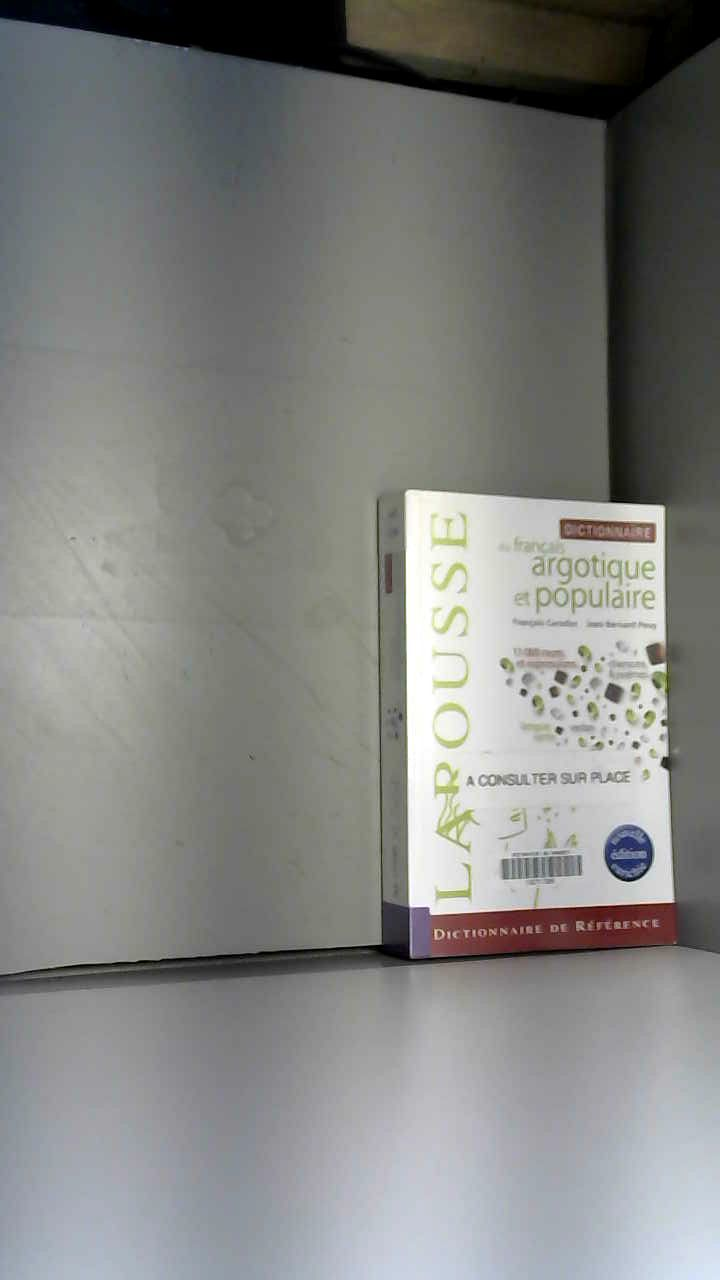book: (333, 459, 712, 990)
